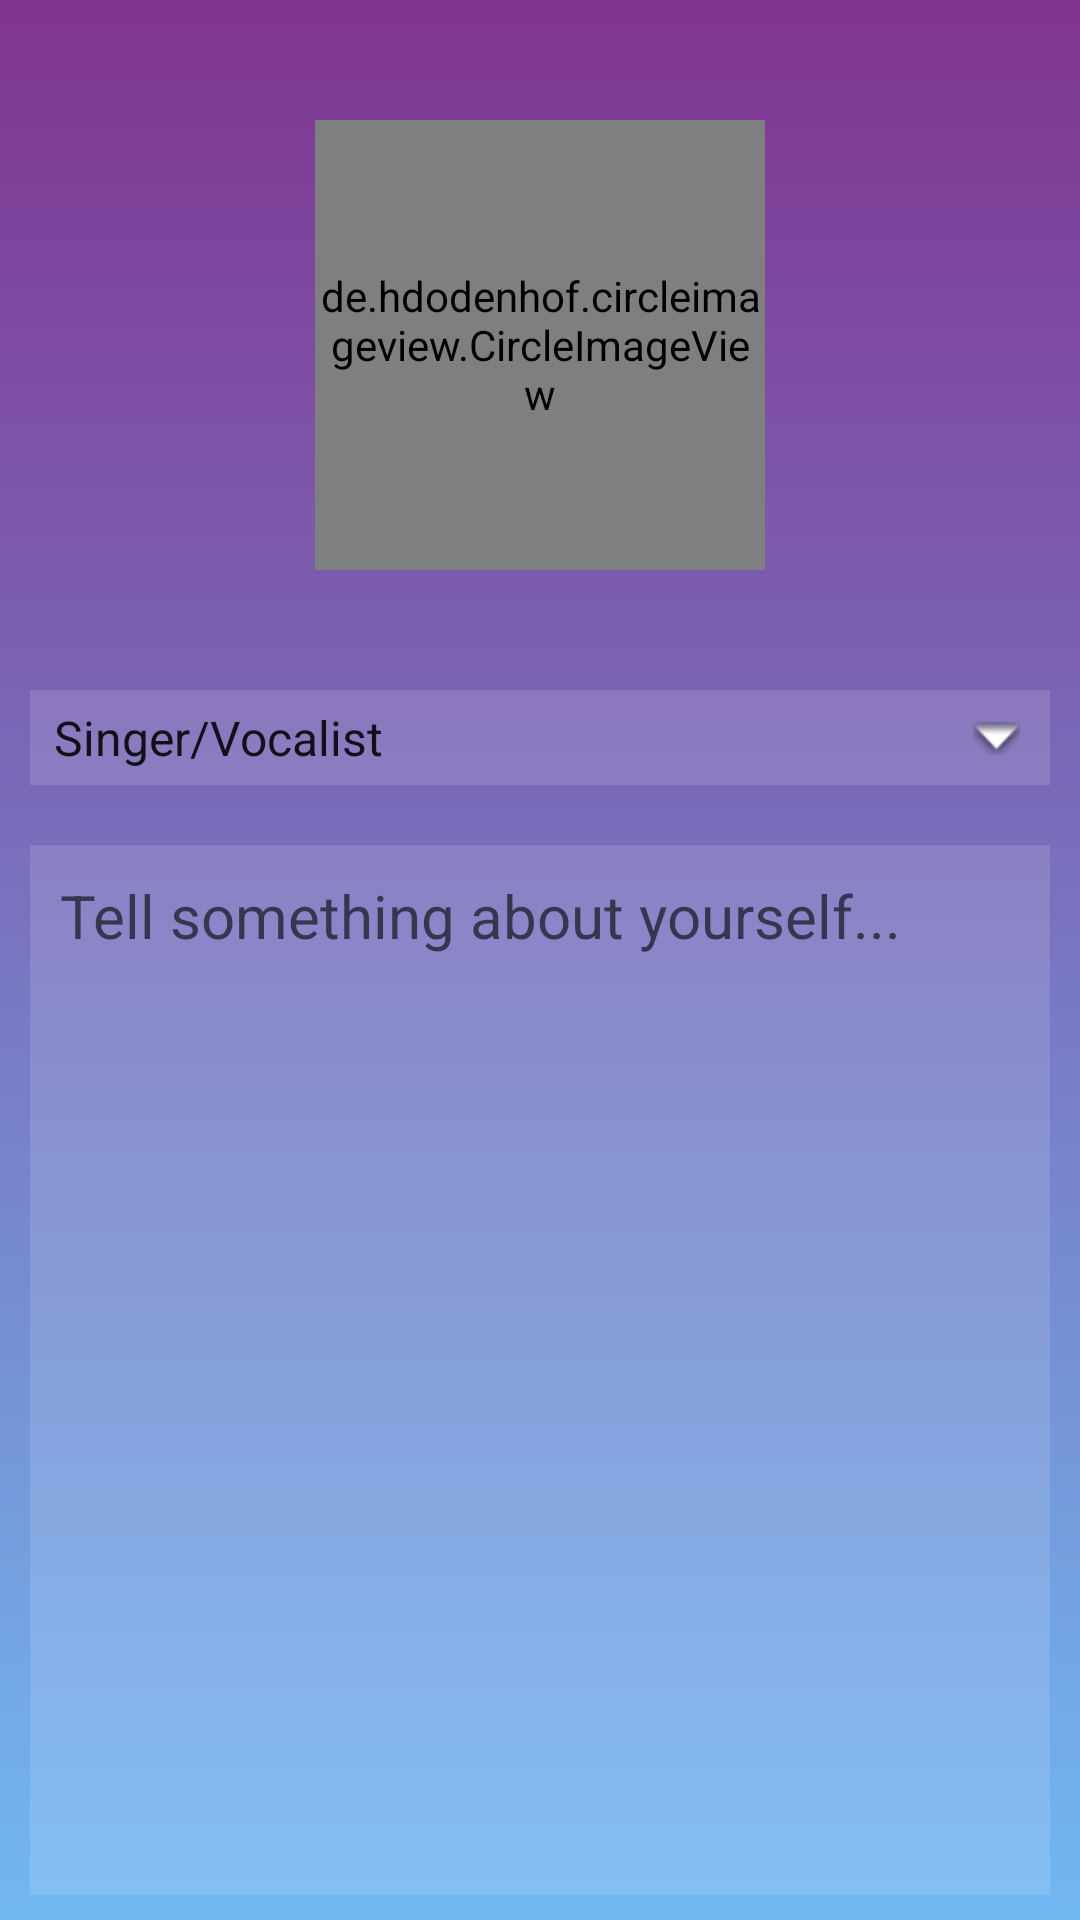

Icon bounding boxes for this 1080px×1920px phone screenshot, format (x1, y1, x2, y2):
arrow down float: (973, 722, 1020, 752)
